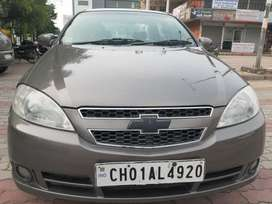CH01AL4920: (96, 160, 204, 186)
